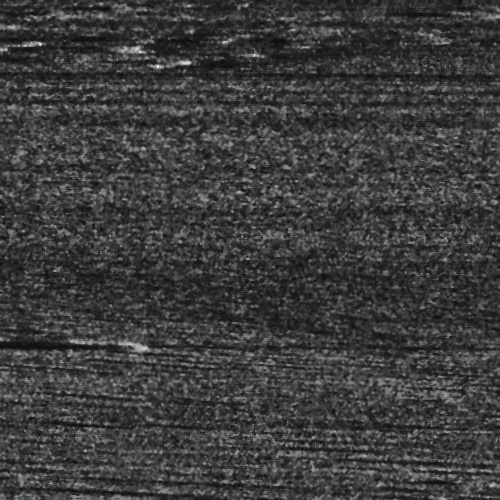object: (75, 335, 158, 346), (449, 8, 500, 15), (107, 44, 148, 51)
shadow: (0, 335, 116, 346), (45, 44, 127, 51), (425, 8, 496, 15)
